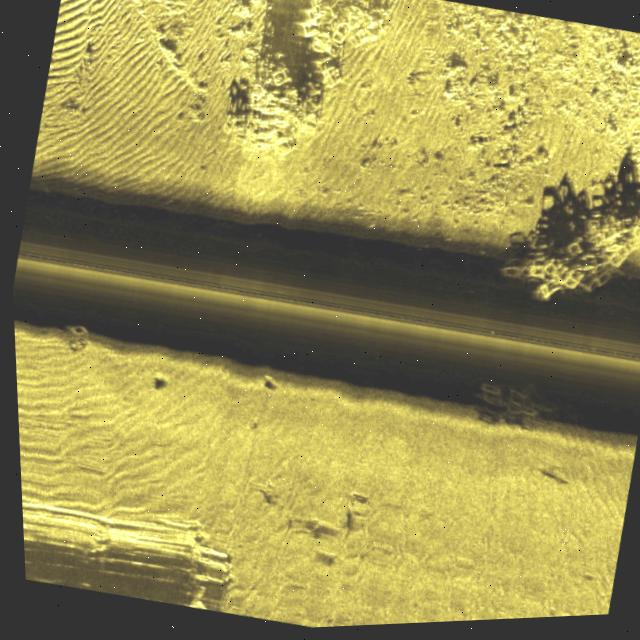artificial reef: (469, 155, 640, 331), (222, 0, 378, 163), (455, 375, 554, 443), (41, 300, 111, 357)
